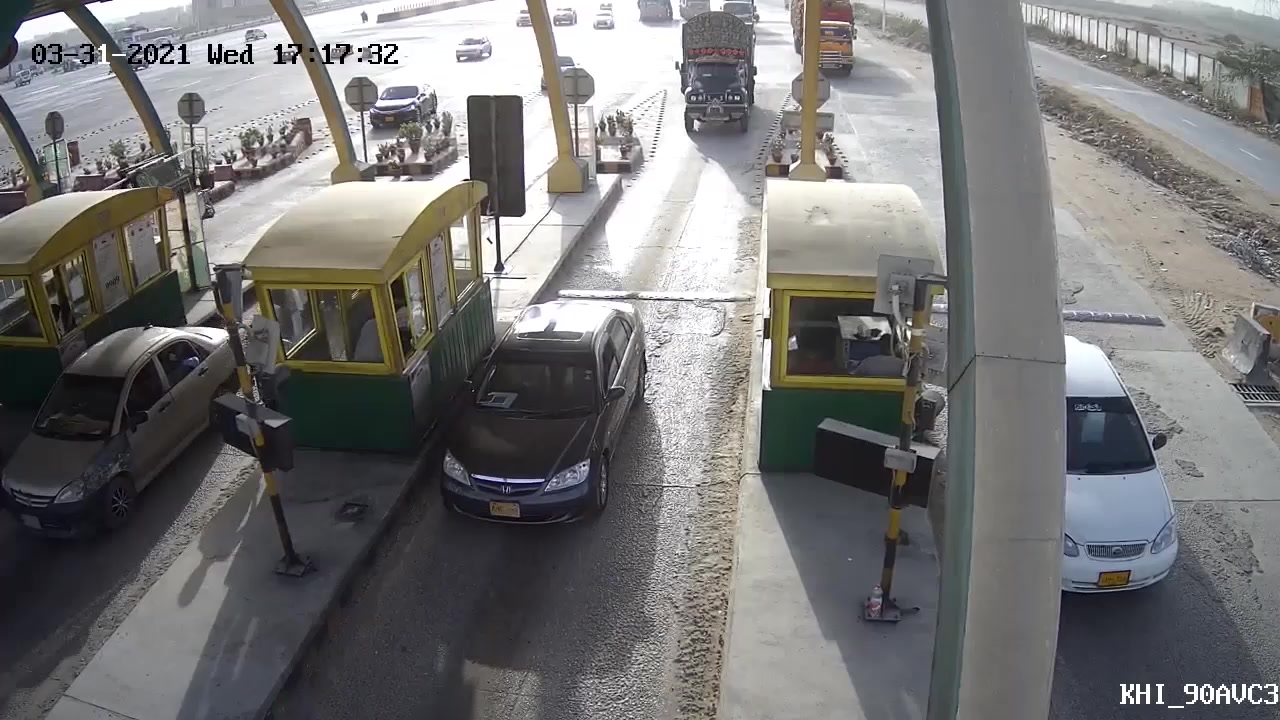F1: (437, 295, 652, 536)
